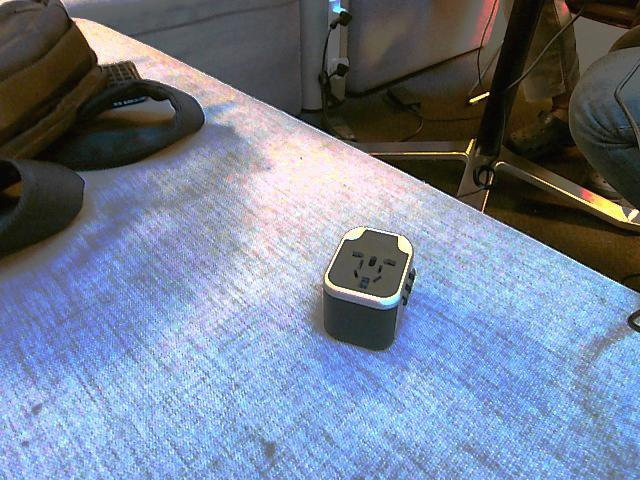adapter: (320, 225, 416, 350)
